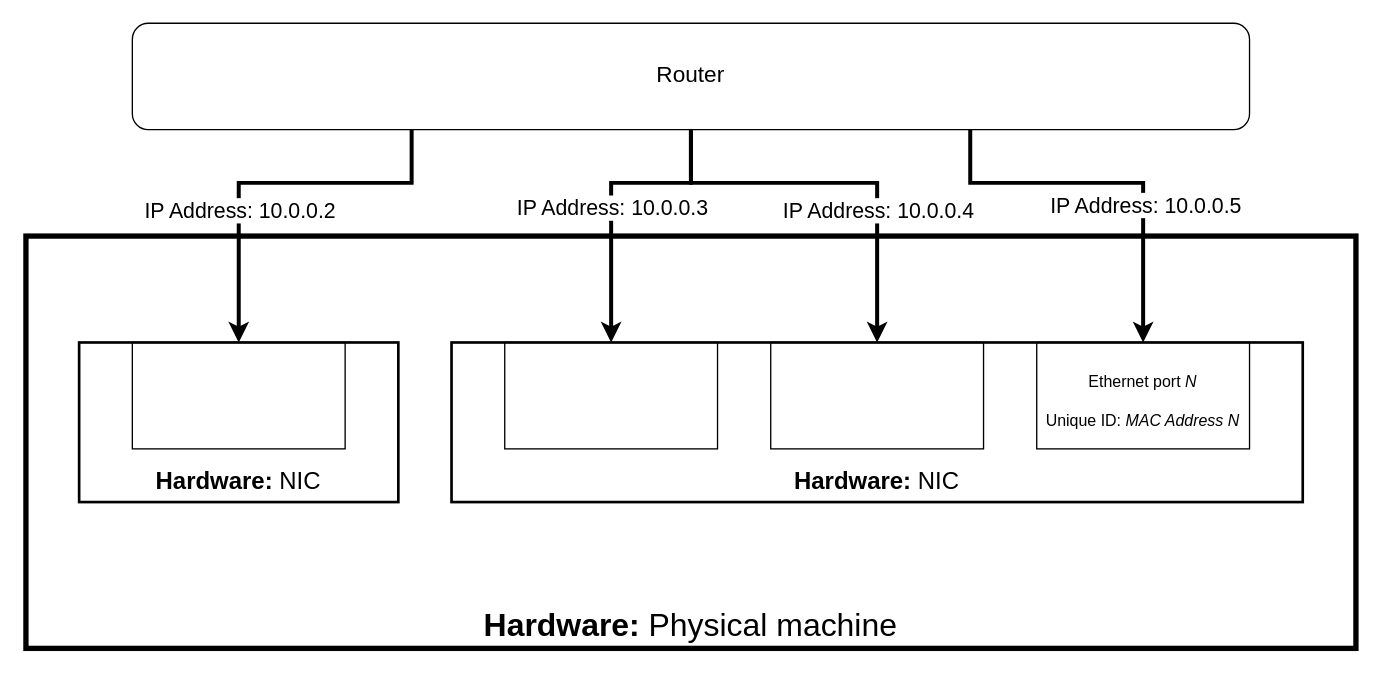
The diagram is 1381 pixels wide and 674 high, and some of its shapes have lost their labels. The centre of each missing label's shape, as x and y in pixels:
"Ethernet port 1 Unique ID: MAC Address 2" goes at point (610, 395).
"Ethernet port 2 Unique ID: MAC Address 3" goes at point (876, 395).
"wifi port Unique ID: MAC Address 1" goes at point (238, 395).
